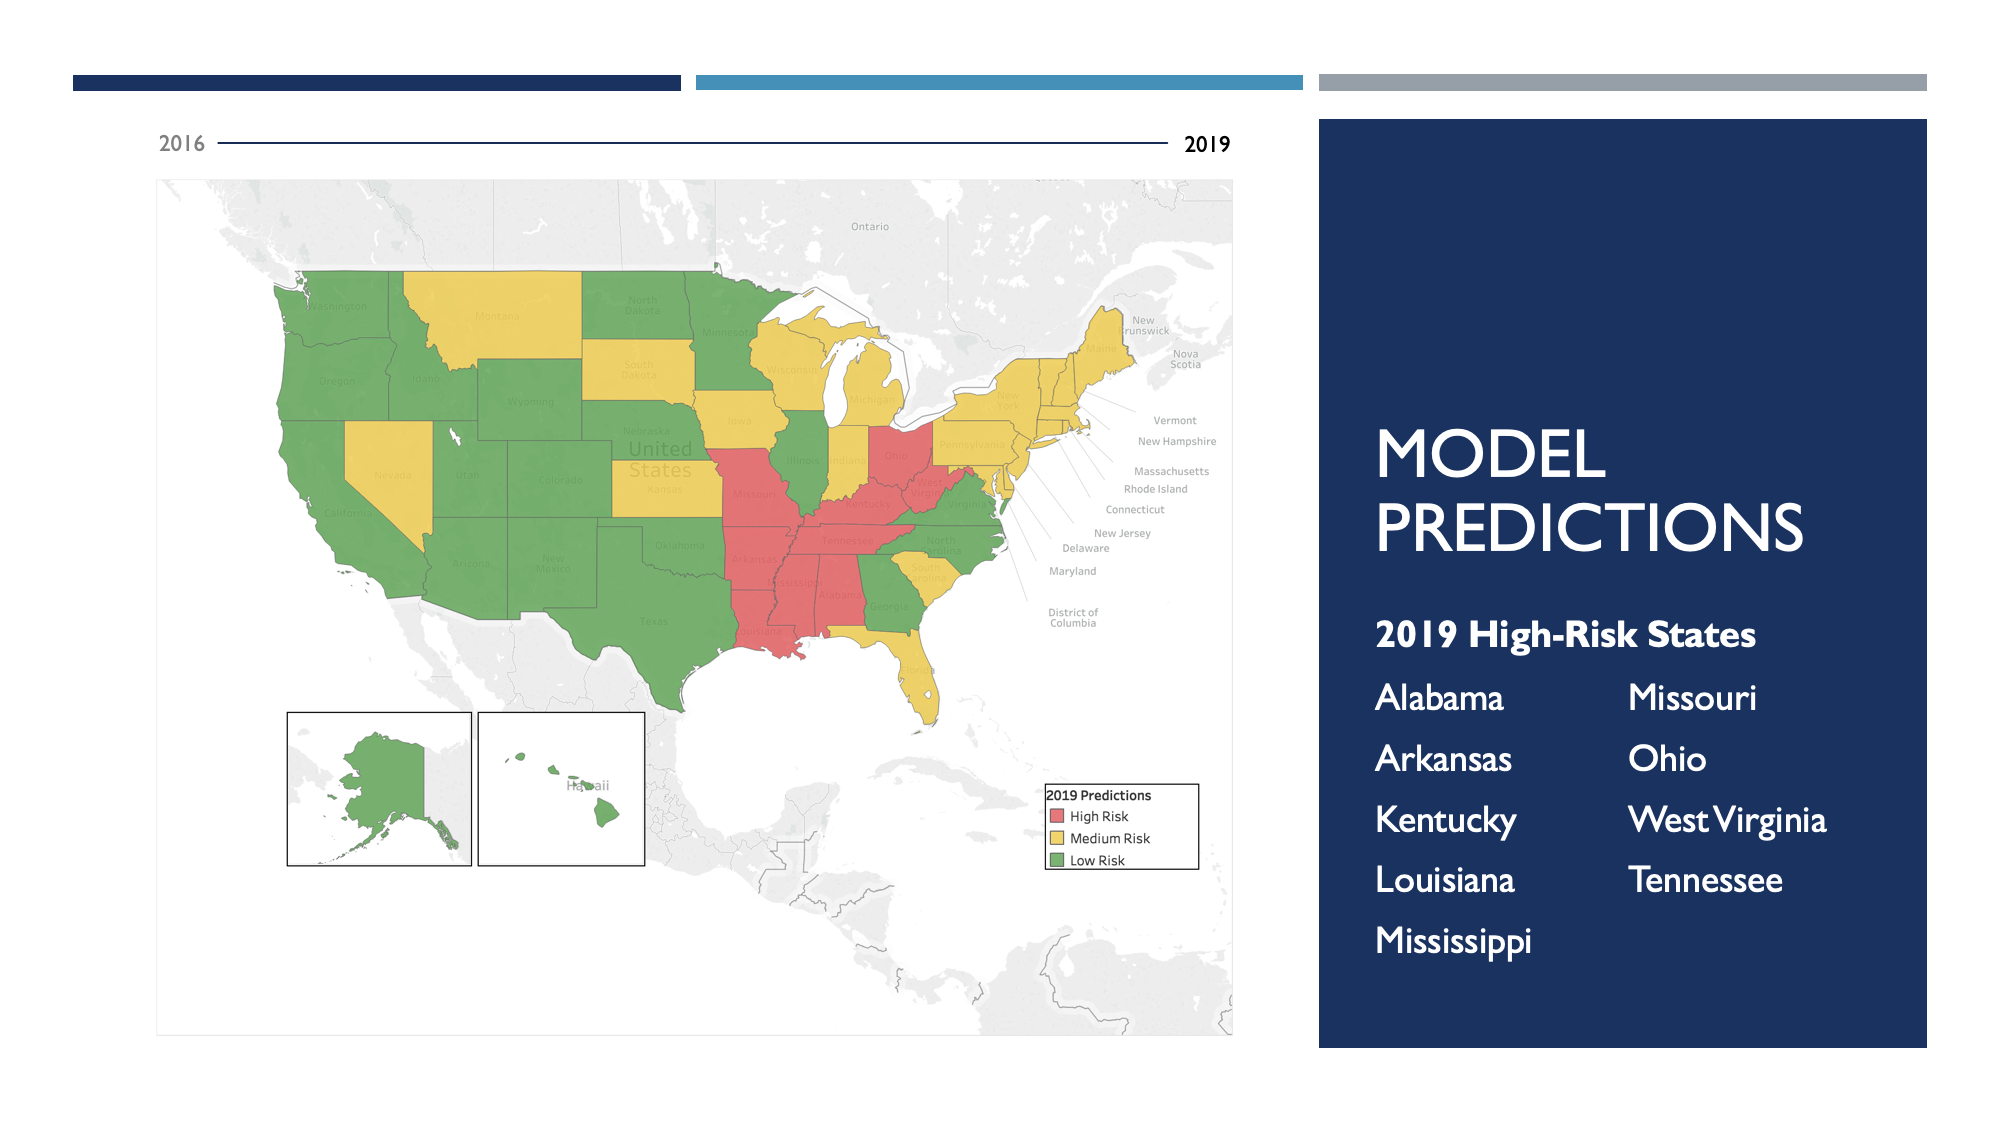

Layout of this report page (visuals, bound fields, positions):
{"tool":"tableau","page":{"name":"Combined Dashboard","canvas":[1000,800],"ordinal":0},"visuals":[{"type":"worksheet","title":"Continental US","mark":"Multipolygon","box":[8,8,984,784]},{"type":"worksheet","title":"Alaska","mark":"Multipolygon","box":[130,494,168,140]},{"type":"worksheet","title":"Hawaii","mark":"Multipolygon","box":[303,494,152,140]},{"type":"legend","title":"Continental US","param":"[federated.0m2l6ym0lxfjpv17yf2tp1avjzvb].[none:Calculation_3261732089231159298:n","box":[817,559,140,78]}]}

Visuals, with their boxes on the page's 1000x800 design canvas (x1, y1, x2, y2). These are canvas units, not pixel positions in the 2000x1125 screenshot, which may show the page scaled, cropped or inside an application window:
"Continental US" worksheet (Multipolygon marks): box=[8, 8, 992, 792]
"Alaska" worksheet (Multipolygon marks): box=[130, 494, 298, 634]
"Hawaii" worksheet (Multipolygon marks): box=[303, 494, 455, 634]
"Continental US" legend: box=[817, 559, 957, 637]
